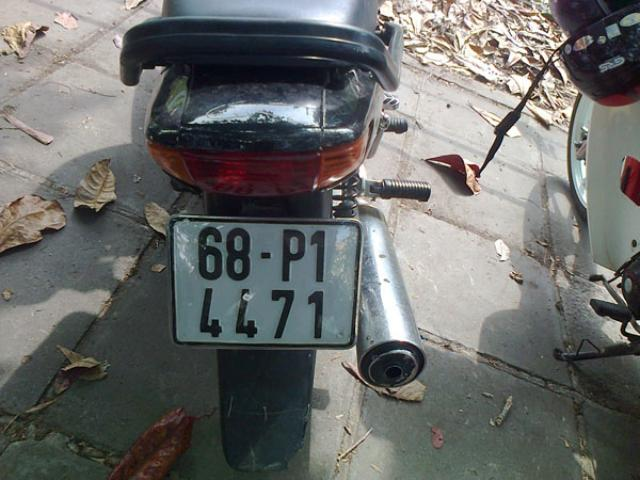plate: (170, 216, 354, 348)
